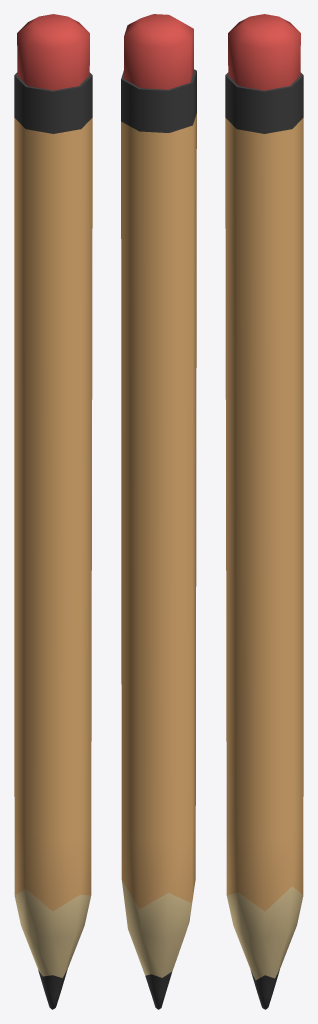
The model's file is pencil.fbx.
The picture shows the model from 3 angles, left to right: view 1: azimuth 90°, elevation 25°; view 2: azimuth 150°, elevation 25°; view 3: azimuth 270°, elevation 25°; orthographic projection.
Parts seen in each view (by area): view 1: pencil; view 2: pencil; view 3: pencil.
Part boxes in pixels (x1,y1,x2,y2): pencil: (14,14,92,1009); pencil: (121,14,196,1009); pencil: (225,14,303,1009).
Size of the model in its own units: 1.88 by 26.02 by 1.88.
